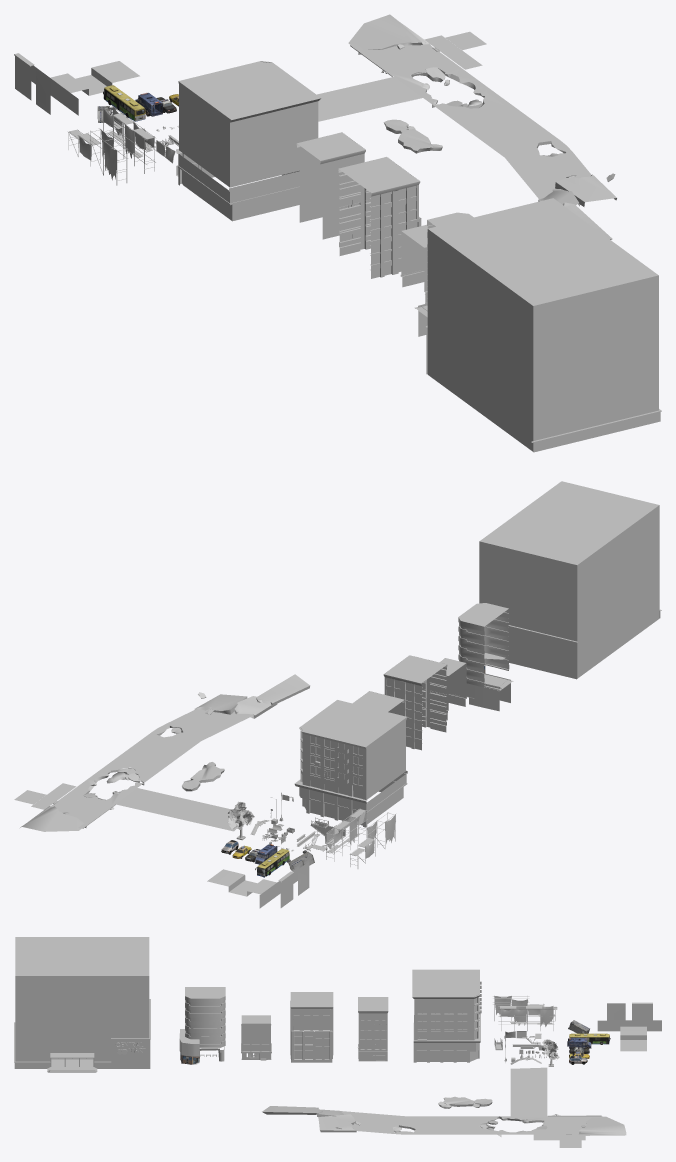
3 views of the same model, one above another, from view 1: azimuth 30°, elevation 25°; view 2: azimuth 150°, elevation 25°; view 3: azimuth 270°, elevation 25° (orthographic). The views are drawn at different scales.
Parts seen in each view (by area): view 1: Asset_BuildingH, Asset_BuildingA, Asset_Road_014, Asset_BuildingD, Asset_BuildingB, Asset_Road_021, Asset_Road_013, Asset_BuildingE, Asset_Scaffold, Asset_Subway_001, Asset_Scaffold2, Asset_Road_027 (+5 smaller); view 2: Asset_BuildingH, Asset_BuildingA, Asset_Road_014, Asset_BuildingF, Asset_BuildingD, Asset_Road_021, Asset_Scaffold, Asset_Road_013, Asset_BuildingE, Asset_Subway_001, Asset_Scaffold2, Asset_Road_031 (+1 smaller); view 3: Asset_BuildingH, Asset_BuildingA, Asset_Road_014, Asset_BuildingD, Asset_BuildingF, Asset_BuildingB, Asset_Road_021, Asset_BuildingE, Asset_Scaffold, Asset_Road_013, Asset_Subway_001, Asset_Wall_003 (+7 smaller).
Boxes of the visible parts, left/top/right/bottom form: Asset_BuildingH: left=425, top=198, right=661, bottom=452; Asset_BuildingA: left=176, top=61, right=321, bottom=221; Asset_Road_014: left=351, top=44, right=591, bottom=199; Asset_BuildingD: left=338, top=157, right=421, bottom=278; Asset_BuildingB: left=296, top=132, right=365, bottom=239; Asset_Road_021: left=317, top=77, right=422, bottom=121; Asset_Road_013: left=348, top=14, right=430, bottom=54; Asset_BuildingE: left=400, top=224, right=427, bottom=303; Asset_Scaffold: left=103, top=106, right=156, bottom=173; Asset_Subway_001: left=50, top=61, right=139, bottom=95; Asset_Scaffold2: left=68, top=128, right=127, bottom=185; Asset_Road_027: left=555, top=174, right=616, bottom=206; Asset_BuildingH: left=479, top=481, right=661, bottom=679; Asset_BuildingA: left=294, top=700, right=407, bottom=827; Asset_Road_014: left=50, top=709, right=253, bottom=828; Asset_BuildingF: left=458, top=603, right=513, bottom=711; Asset_BuildingD: left=383, top=655, right=447, bottom=750; Asset_Road_021: left=115, top=788, right=236, bottom=831; Asset_Scaffold: left=326, top=808, right=367, bottom=861; Asset_Road_013: left=20, top=806, right=86, bottom=831; Asset_BuildingE: left=439, top=658, right=466, bottom=720; Asset_Subway_001: left=207, top=869, right=276, bottom=896; Asset_Scaffold2: left=349, top=812, right=396, bottom=868; Asset_Road_031: left=256, top=674, right=310, bottom=705; Asset_BuildingH: left=14, top=937, right=150, bottom=1072; Asset_BuildingA: left=412, top=969, right=481, bottom=1062; Asset_Road_014: left=341, top=1111, right=602, bottom=1134; Asset_BuildingD: left=290, top=992, right=333, bottom=1062; Asset_BuildingF: left=179, top=987, right=225, bottom=1064; Asset_BuildingB: left=358, top=997, right=388, bottom=1061; Asset_Road_021: left=510, top=1067, right=547, bottom=1116; Asset_BuildingE: left=241, top=1015, right=271, bottom=1060; Asset_Scaffold: left=498, top=1006, right=555, bottom=1030; Asset_Road_013: left=578, top=1116, right=626, bottom=1135; Asset_Subway_001: left=620, top=1026, right=646, bottom=1051; Asset_Wall_003: left=597, top=1020, right=661, bottom=1031.
Size of the model in its own units: 109 by 39.16 by 228.
